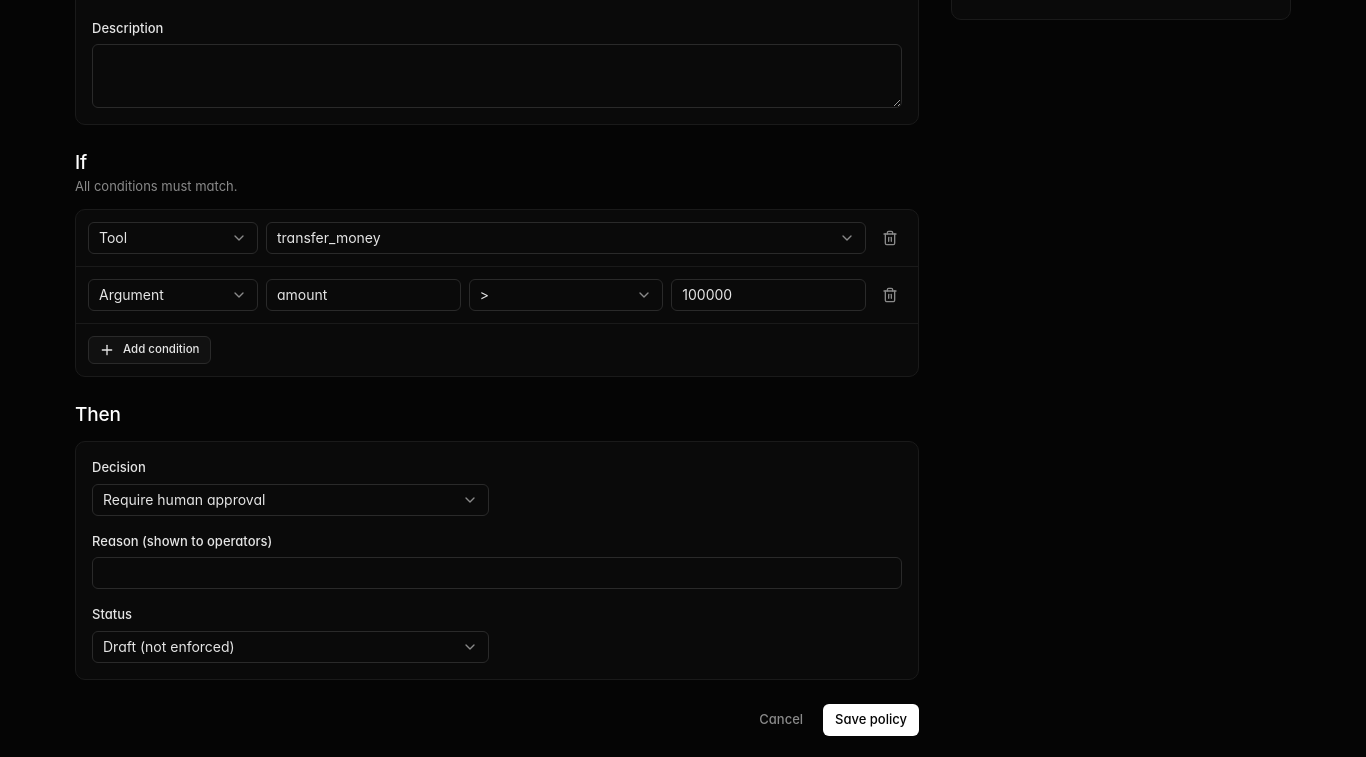
it: PolicyEditor › previews the rule in plain language and blocks saving without a name
(page scrolled)
Step 1. Click the button "Save policy" → (871, 720), box x1=823 y1=704 x2=919 y2=736
(page scrolled)
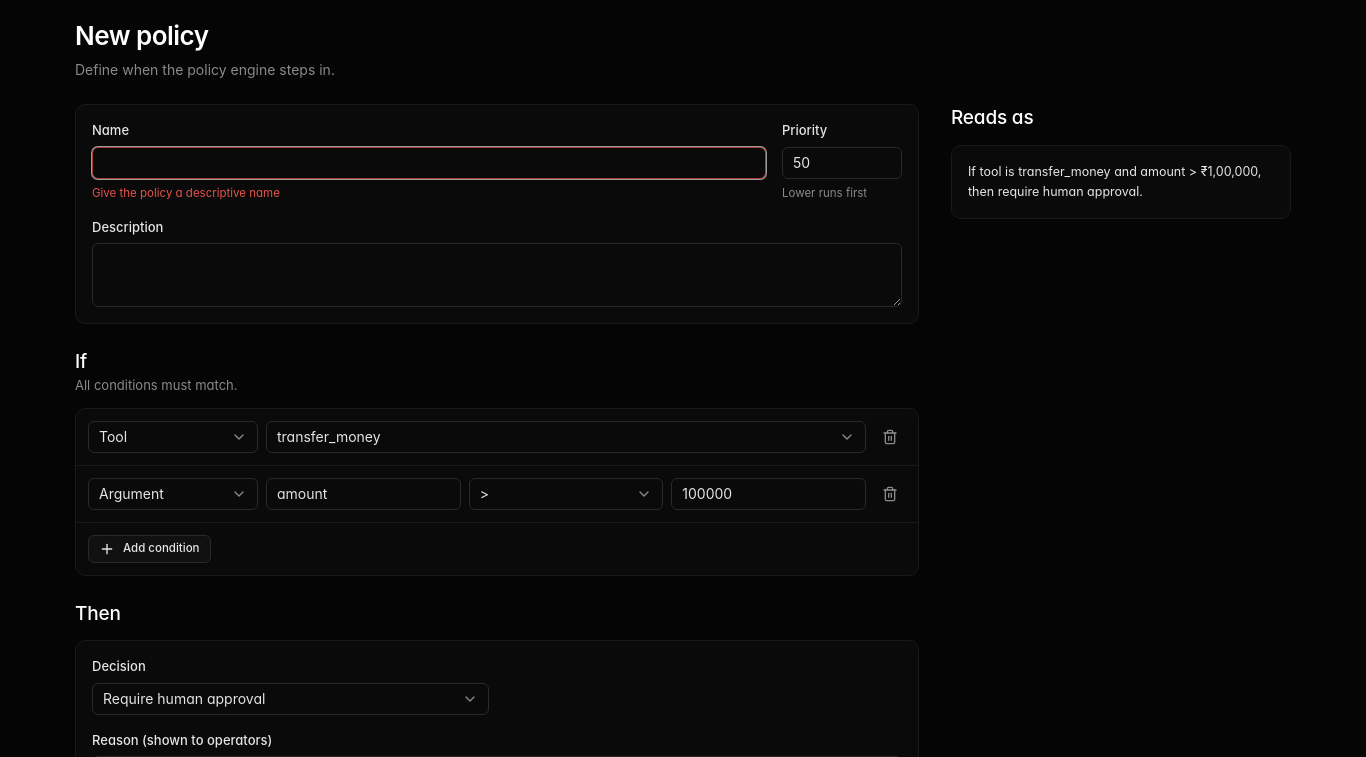
Result: the text "Give the policy a descriptive name" is shown at x1=92 y1=186 x2=280 y2=200
